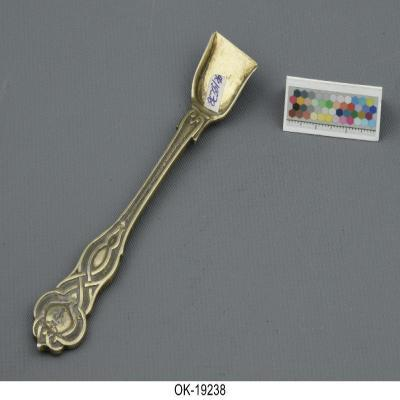dpi: (32, 33, 258, 356)
